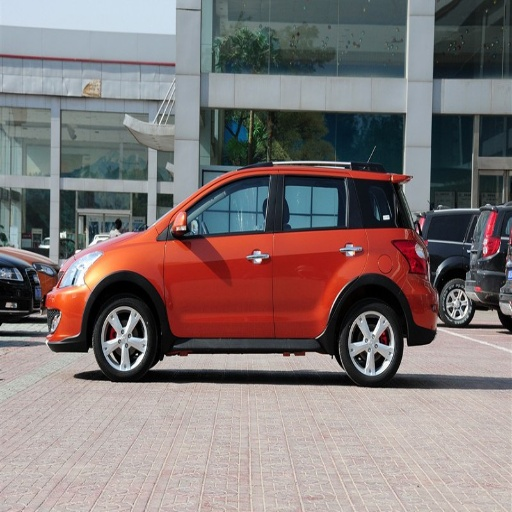back_left_door: (275, 171, 370, 334)
front_left_door: (165, 172, 277, 333)
